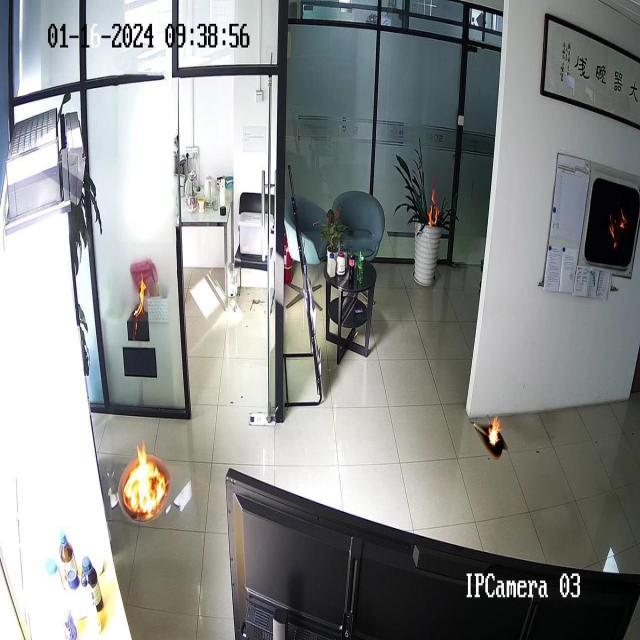smoke: (122, 438, 168, 520), (608, 207, 628, 252), (130, 273, 148, 321), (425, 180, 443, 224), (487, 409, 501, 451)
